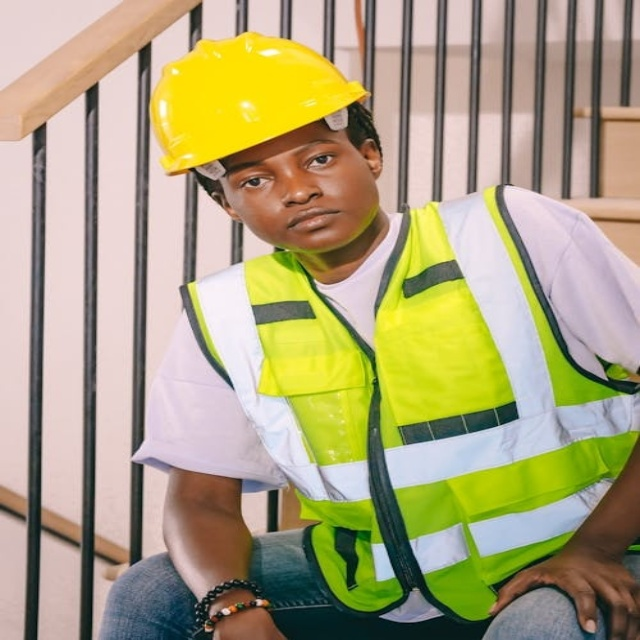Sin_gafas: (221, 133, 351, 196)
Sin_guantes: (488, 549, 640, 639)
Sin_mascara: (260, 205, 360, 240)
